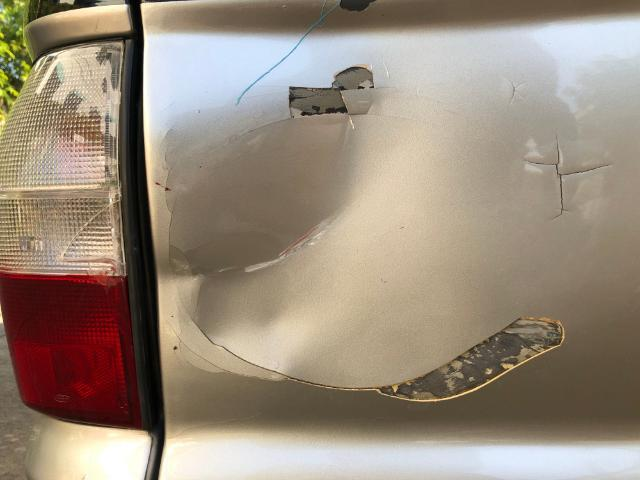dent: (169, 97, 440, 372)
lamp broken: (0, 38, 142, 431)
